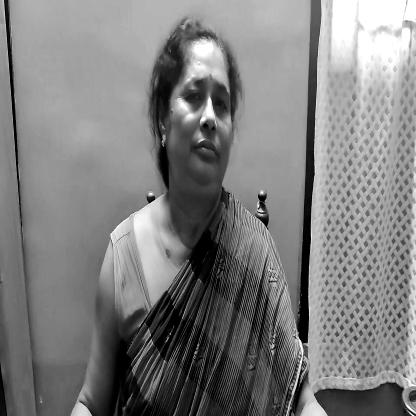Normal: (154, 26, 242, 209)
